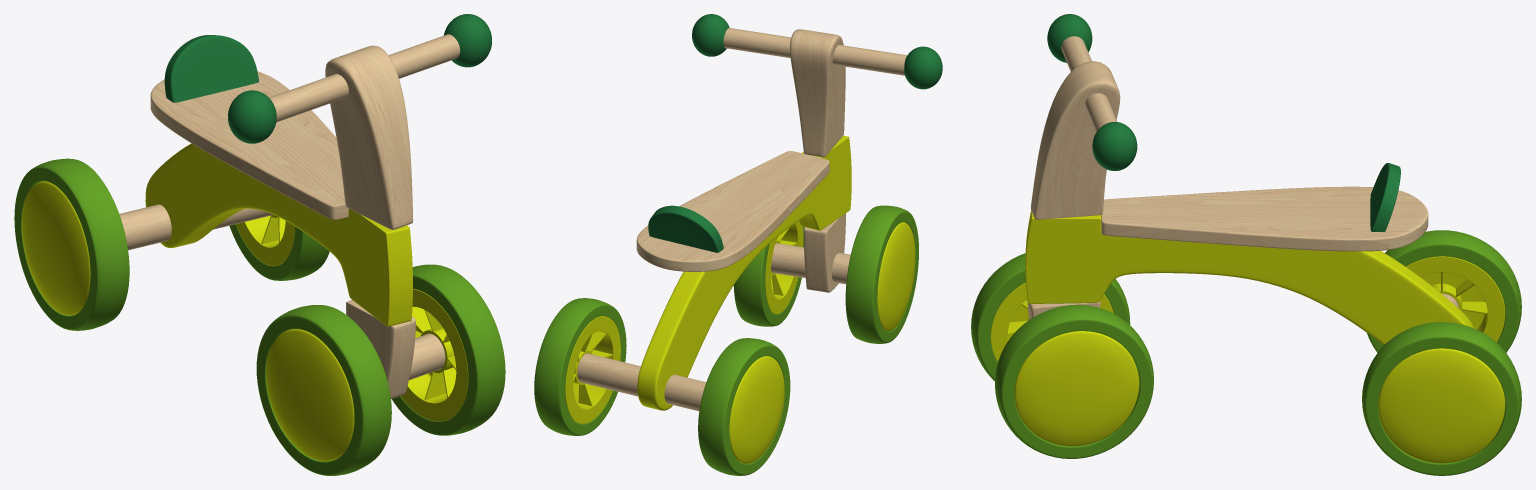
File: bike.glb
The picture shows the model from 3 angles, left to right: view 1: azimuth 30°, elevation 25°; view 2: azimuth 150°, elevation 25°; view 3: azimuth 270°, elevation 25°; orthographic projection. The views are drawn at different scales.
Parts seen in each view (by area): view 1: Circle.007_0; view 2: Circle.007_0; view 3: Circle.007_0.
Part boxes in pixels (left/top/right/bottom): Circle.007_0: left=14, top=14, right=505, bottom=475; Circle.007_0: left=534, top=14, right=942, bottom=475; Circle.007_0: left=971, top=14, right=1521, bottom=475.
Size of the model in its own units: 0.2908 by 0.378 by 0.5334.
5 materials, 5 textured.
